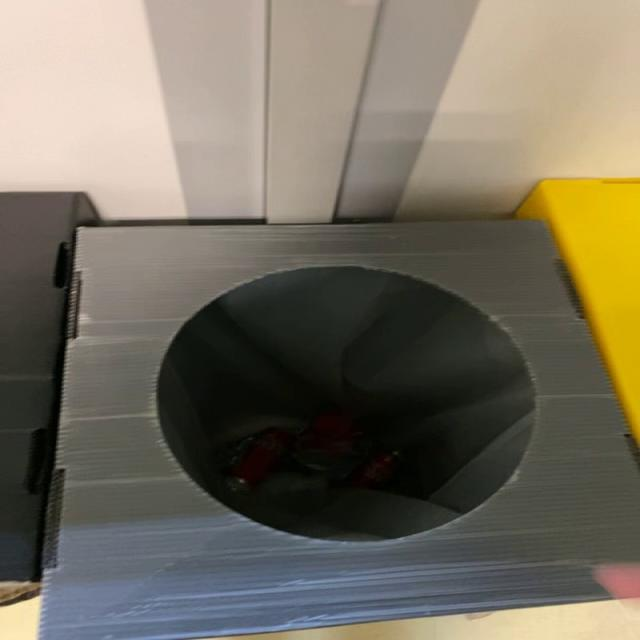bin: (39, 221, 639, 640)
metal: (229, 414, 357, 488), (347, 452, 397, 488)
